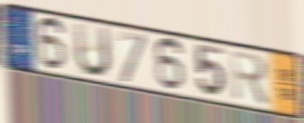5: (193, 42, 227, 99)
6: (35, 15, 71, 73), (153, 36, 189, 93)
7: (116, 29, 148, 85)
R: (229, 48, 272, 109)
U: (71, 21, 113, 80)
